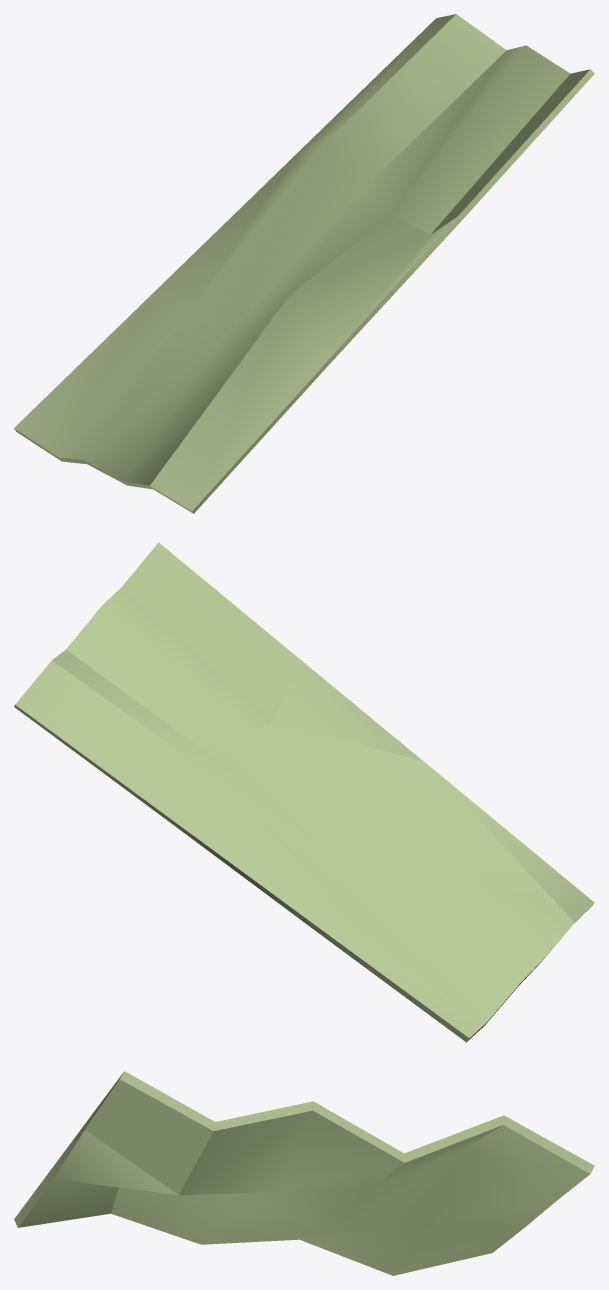
Rendered from techo1.glb.
3 renders of one model, top to bottom at view 1: azimuth 30°, elevation 25°; view 2: azimuth 150°, elevation 25°; view 3: azimuth 270°, elevation 25°, orthographic. The views are drawn at different scales.
Visible parts, largest first — view 1: Plane.002; view 2: Plane.002; view 3: Plane.002.
Part boxes in pixels (x1,y1,x2,y2): Plane.002: (14,14,594,513); Plane.002: (14,542,594,1042); Plane.002: (14,1071,594,1275).
Bounding box in the file's own units: 10.01 × 7.12 × 7.05.
